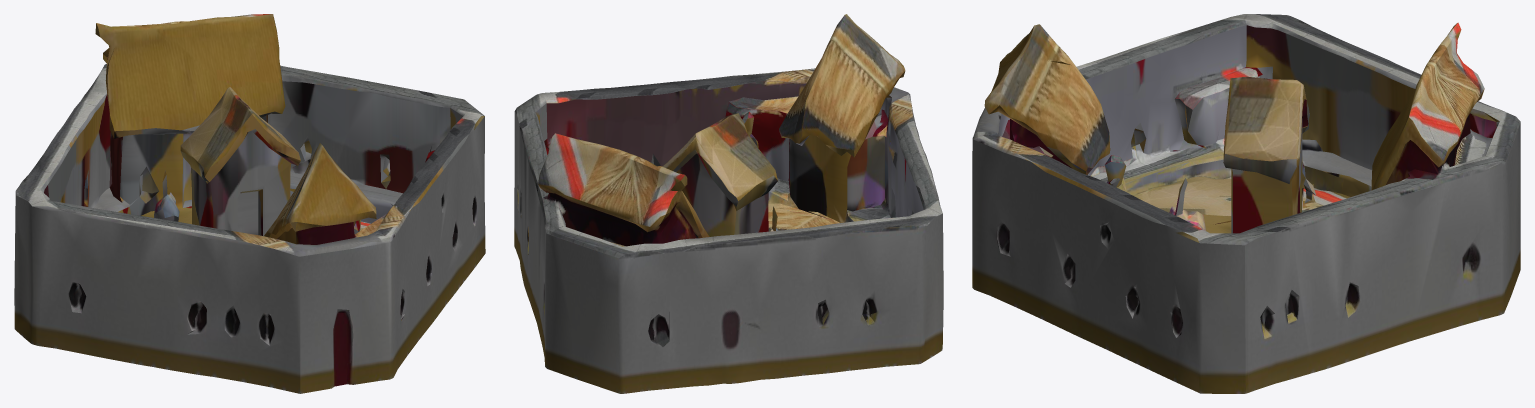
The model's file is tawantinsuyu_fortaleza.glb.
The picture shows the model from 3 angles, left to right: view 1: azimuth 30°, elevation 25°; view 2: azimuth 150°, elevation 25°; view 3: azimuth 270°, elevation 25°; orthographic projection. The views are drawn at different scales.
Parts seen in each view (by area): view 1: geometry_0; view 2: geometry_0; view 3: geometry_0.
Part boxes in pixels (box(x1,y1,x2,y2)): geometry_0: box(14, 14, 485, 393); geometry_0: box(514, 14, 943, 393); geometry_0: box(972, 14, 1520, 393).
Bounding box in the file's own units: 3.37 × 1.66 × 3.4.
1 material, 1 textured.
